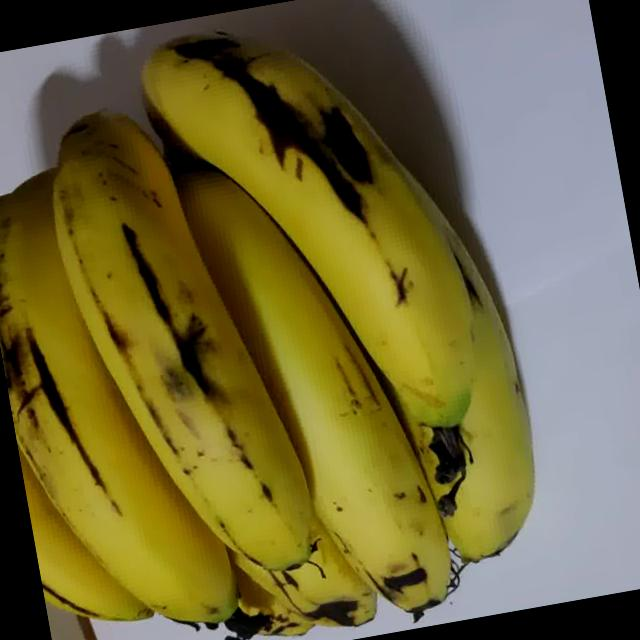banana_pacche: (0, 0, 575, 640)
